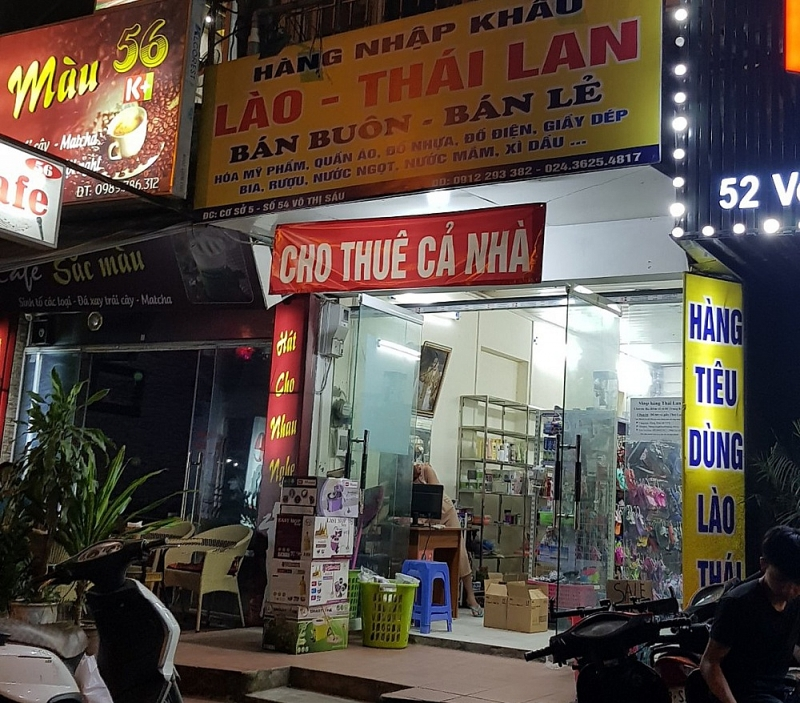banner: (192, 2, 670, 221), (1, 4, 189, 208), (682, 270, 749, 609), (266, 218, 556, 289), (6, 223, 237, 311)
